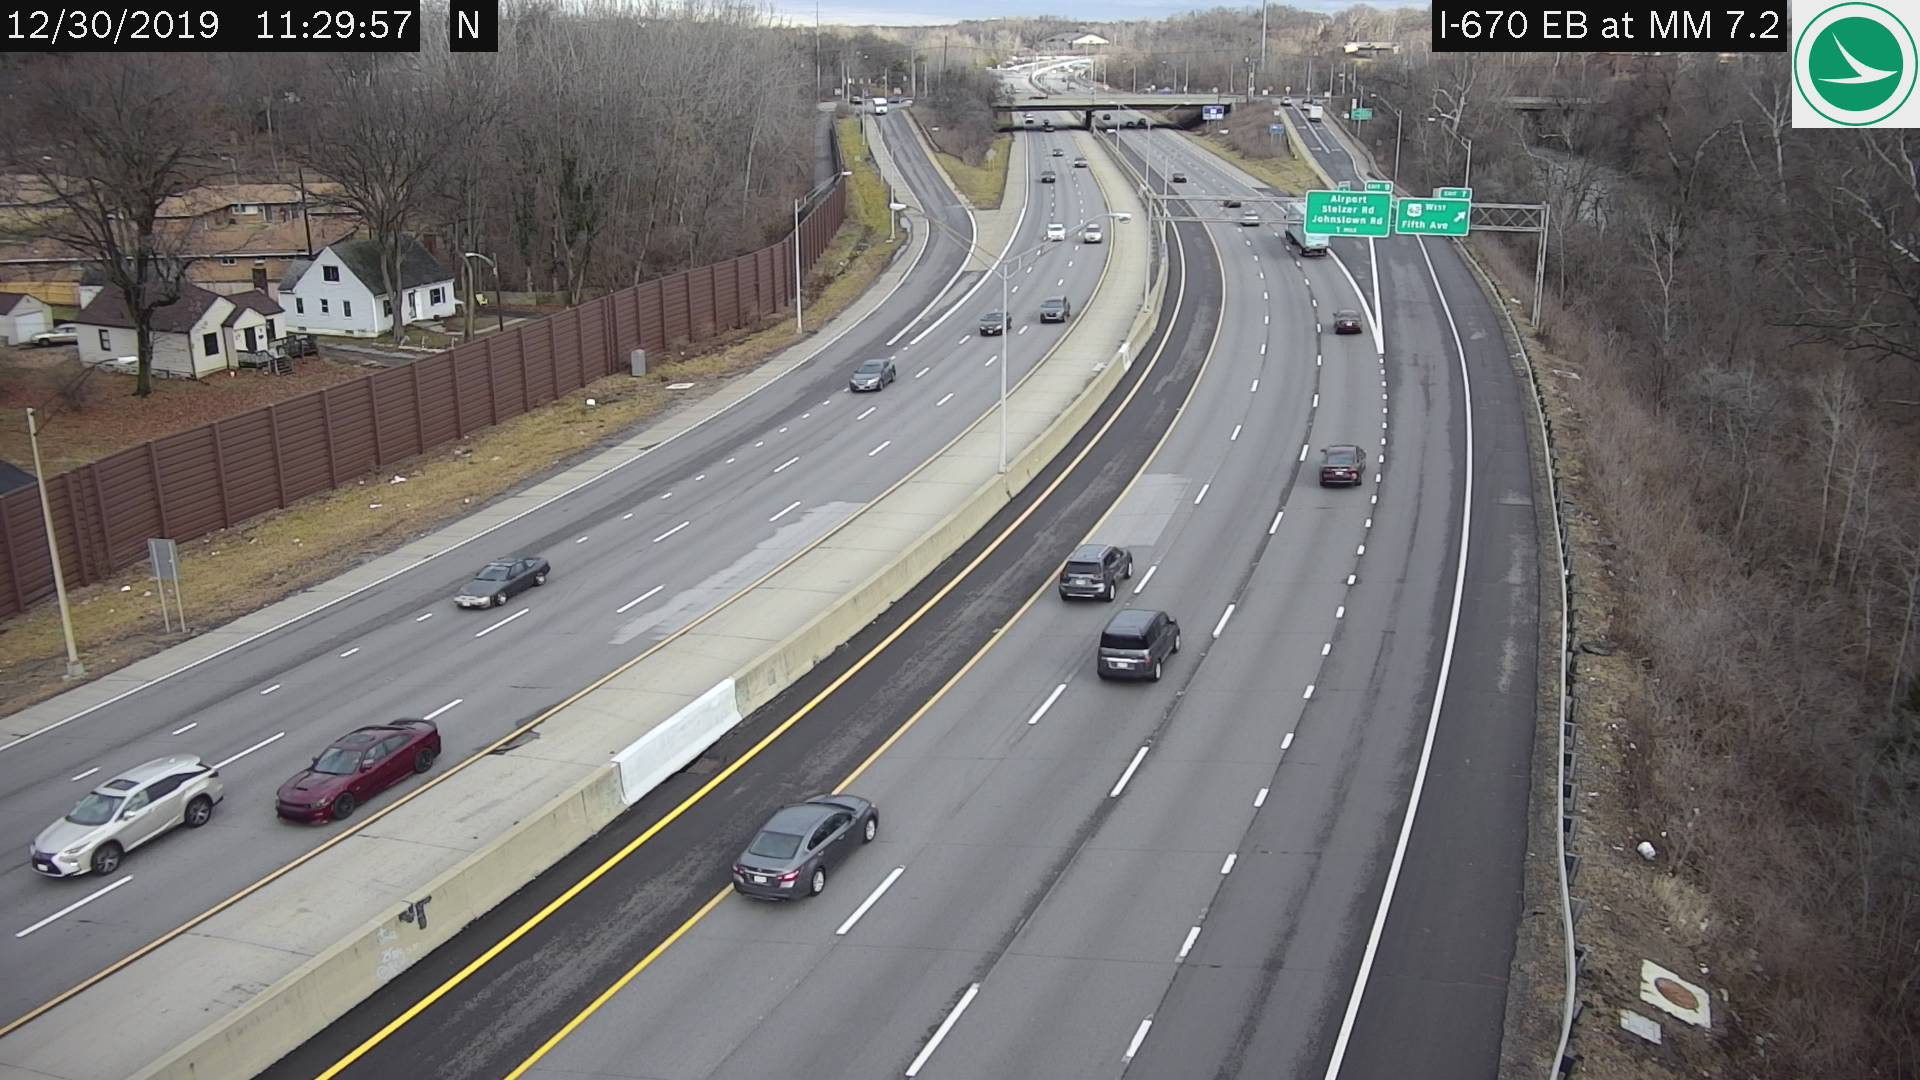car: (26, 752, 222, 884), (274, 720, 442, 824), (735, 793, 878, 899), (1102, 608, 1182, 680), (454, 556, 550, 608), (1058, 545, 1134, 600), (1284, 202, 1329, 256), (1317, 440, 1362, 488), (851, 356, 894, 388), (978, 309, 1010, 336), (1040, 291, 1068, 320), (1335, 309, 1362, 332), (1047, 222, 1067, 243), (1083, 222, 1101, 243), (1241, 210, 1259, 225), (1039, 167, 1055, 182), (1174, 170, 1185, 185), (1073, 156, 1087, 166)
